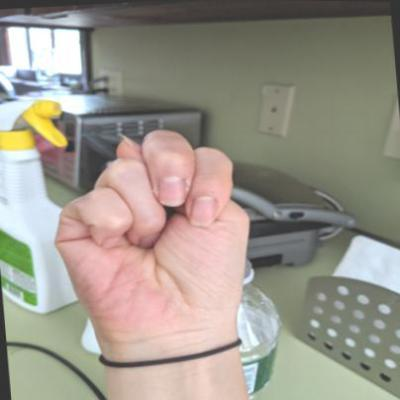hand: (40, 117, 262, 351)
